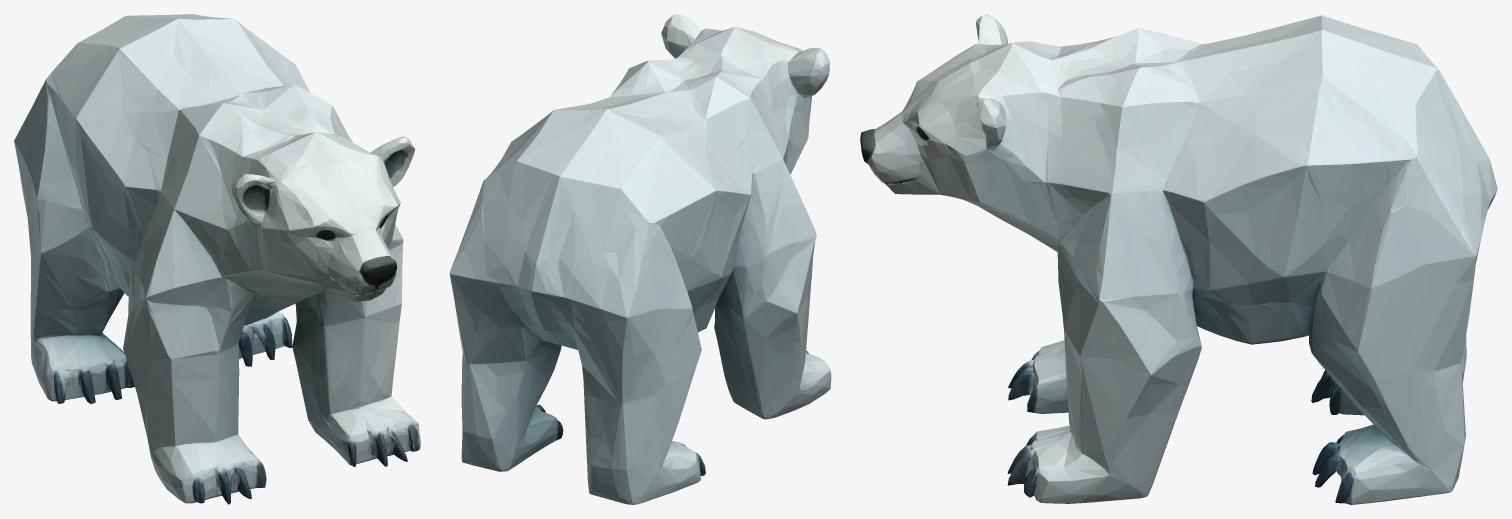
Rendered from polarbear.glb.
3 views of the same model, side by side, from view 1: azimuth 30°, elevation 25°; view 2: azimuth 150°, elevation 25°; view 3: azimuth 270°, elevation 25° (orthographic). The views are drawn at different scales.
Parts seen in each view (by area): view 1: world; view 2: world; view 3: world.
Boxes of the visible parts, bbox=[...] form: world: bbox=[14, 14, 420, 504]; world: bbox=[449, 14, 831, 504]; world: bbox=[860, 14, 1497, 504].
Size of the model in its own units: 0.5227 by 0.7184 by 0.9969.
Materials: 1 (1 with a texture image).
